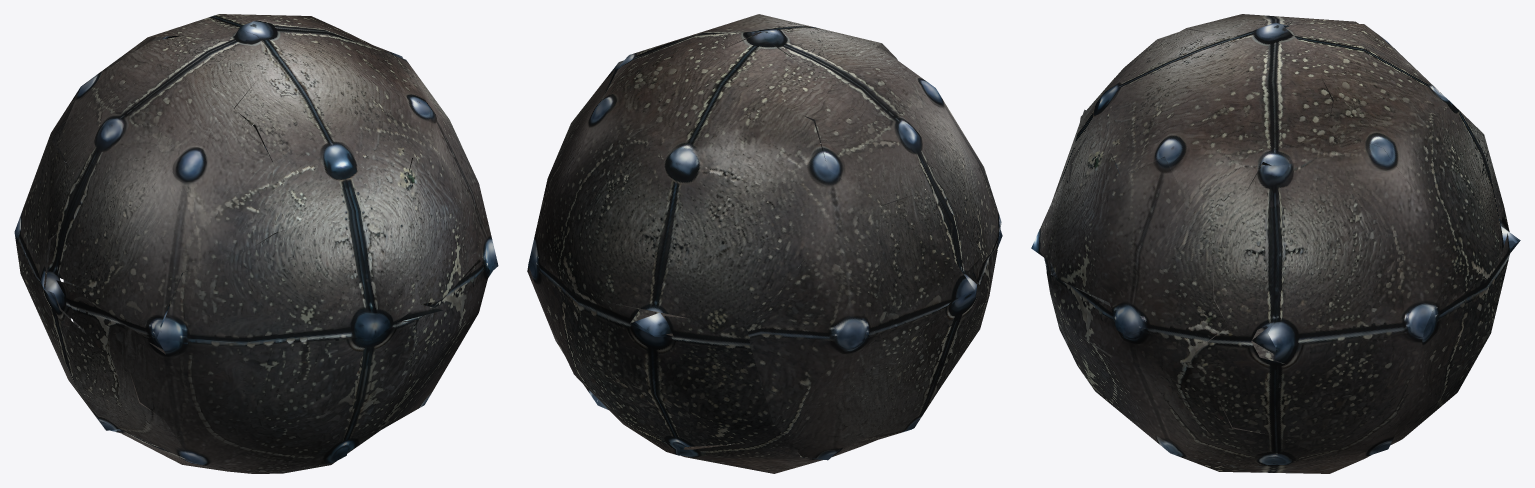
The model's file is SnakeNeck1N.fbx.
3 views of the same model, side by side, from view 1: azimuth 30°, elevation 25°; view 2: azimuth 150°, elevation 25°; view 3: azimuth 270°, elevation 25° (orthographic).
Visible parts, largest first — view 1: texture_mapping; view 2: texture_mapping; view 3: texture_mapping.
Part boxes in pixels (bbox=[...]): texture_mapping: bbox=[14, 14, 498, 473]; texture_mapping: bbox=[527, 14, 1002, 473]; texture_mapping: bbox=[1031, 14, 1520, 473].
Size of the model in its own units: 100 by 98.75 by 99.76.
1 material, 1 textured.
